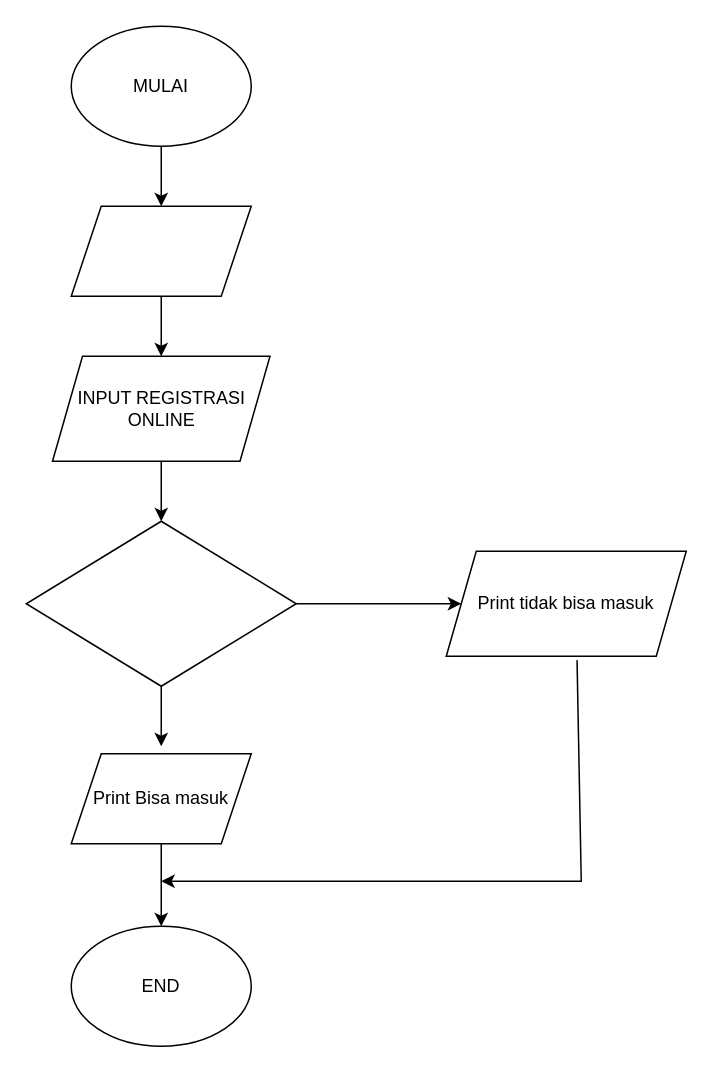
This 713x1073 diagram has some shape labels left out. The shapes that lost their labels are listed below. From the top down, each one's box as (x1, y1, x2, y2) in pixels, then its label:
(70, 205, 251, 296): INPUT KARTU MAHASISWA
(25, 520, 296, 686): Apakah kartu == ya atau registrasi online == ya
